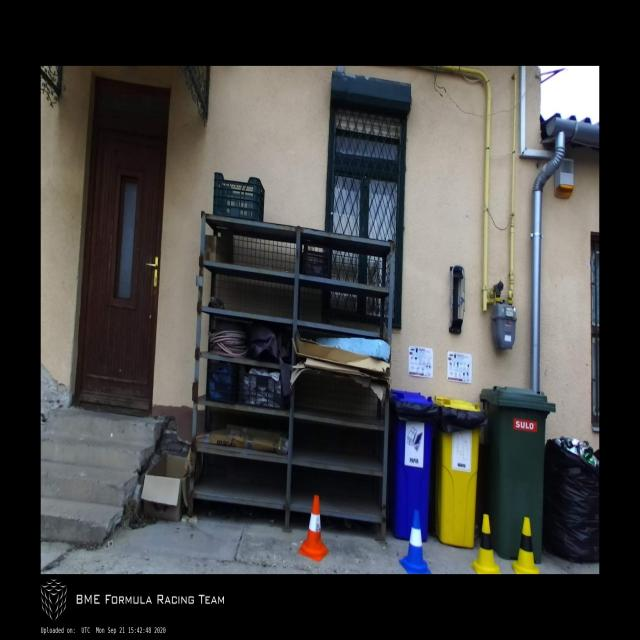blue_cone: (398, 510, 432, 574)
orange_cone: (298, 495, 329, 561)
yellow_cone: (471, 514, 501, 574), (511, 518, 540, 574)
